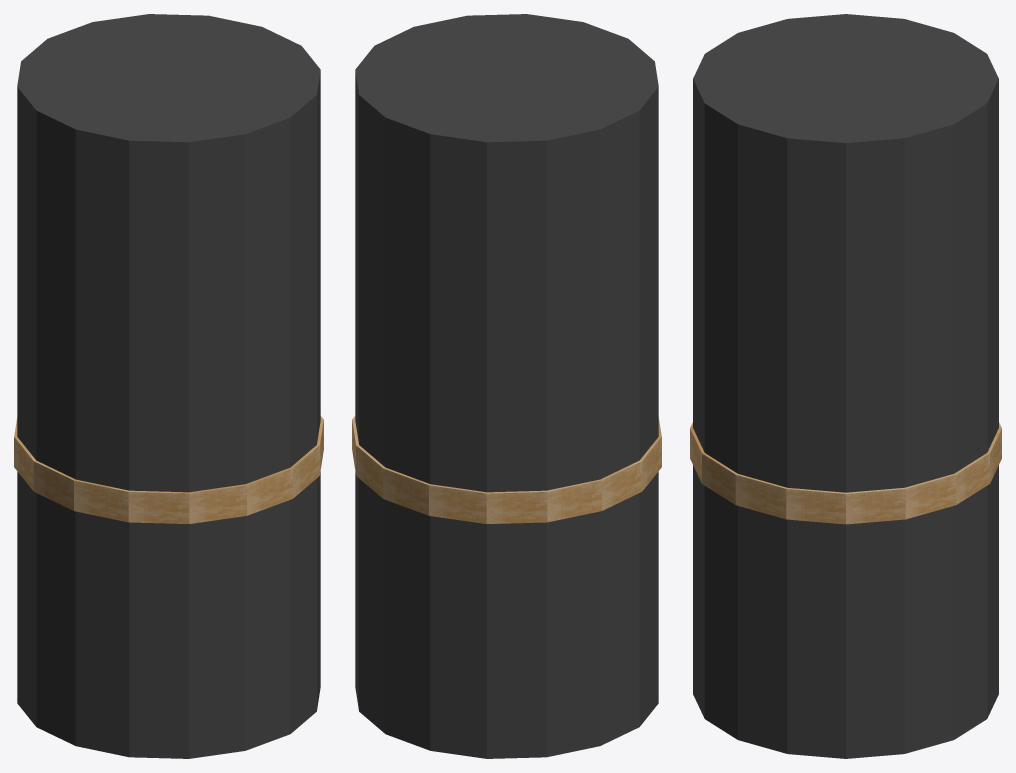
File: copper_extender.obj
3 renders of one model, left to right at view 1: azimuth 30°, elevation 25°; view 2: azimuth 150°, elevation 25°; view 3: azimuth 270°, elevation 25°, orthographic.
Visible parts, largest first — view 1: Cylinder, Cylinder.002; view 2: Cylinder, Cylinder.002; view 3: Cylinder, Cylinder.002.
Part boxes in pixels (left/top/right/bottom): Cylinder: left=17, top=14, right=320, bottom=758; Cylinder.002: left=14, top=416, right=323, bottom=523; Cylinder: left=355, top=14, right=658, bottom=758; Cylinder.002: left=352, top=416, right=661, bottom=523; Cylinder: left=693, top=14, right=998, bottom=758; Cylinder.002: left=690, top=422, right=1001, bottom=524.
Size of the model in its own units: 0.204 by 0.4484 by 0.204.
